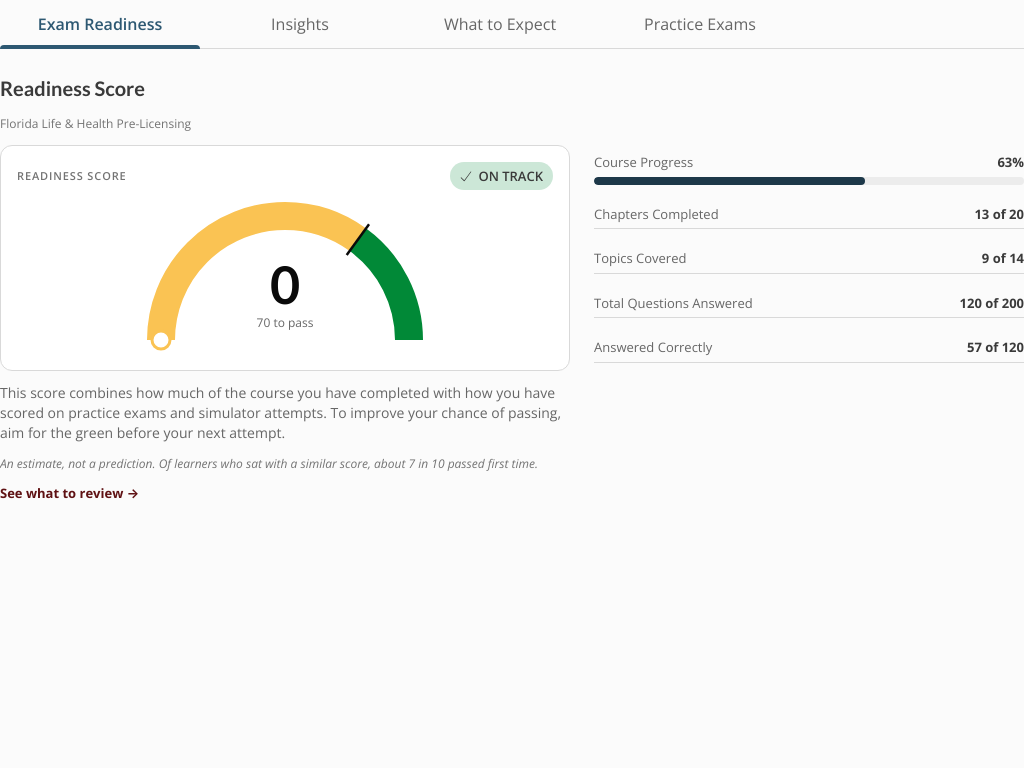
Test: the Practice Exams tab › keeps practice and licensing attempts as separate lists
This screenshot has width=1024, height=768.
Click the tab "Practice Exams": (700, 24) [600,0,800,48]
(page scrolled)
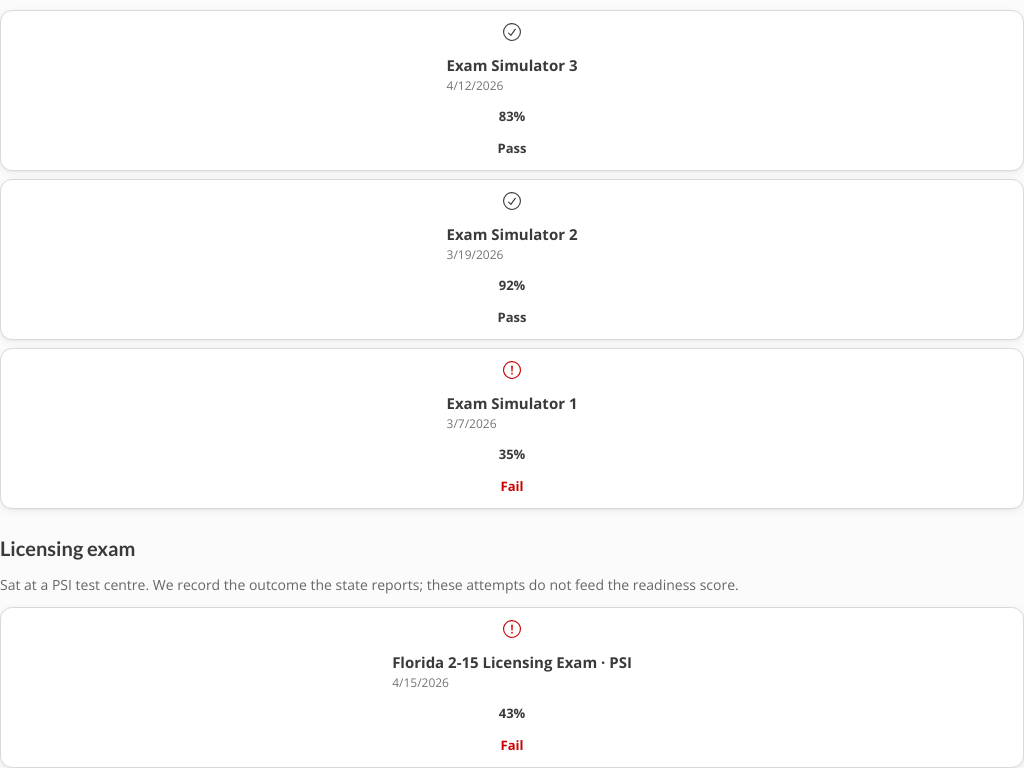
Expected: the heading "Licensing exam" is shown, [0,536,135,560]
Expected: the text "Exam Simulator 3" is shown, [446,55,577,75]
Expected: the text "Exam Simulator 2" is shown, [446,224,577,244]
